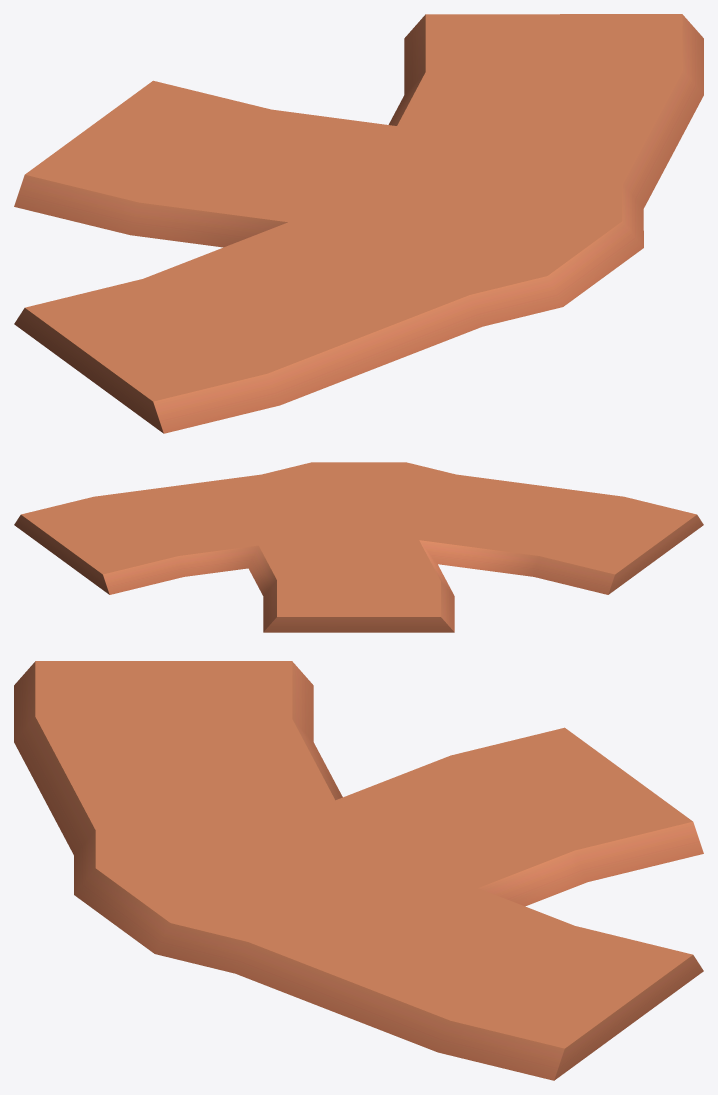
File: kenney-hexagon-path-intersectiona.glb
The picture shows the model from 3 angles, top to bottom: view 1: azimuth 30°, elevation 25°; view 2: azimuth 150°, elevation 25°; view 3: azimuth 270°, elevation 25°; orthographic projection. The views are drawn at different scales.
Parts seen in each view (by area): view 1: path_intersectionA; view 2: path_intersectionA; view 3: path_intersectionA.
Part boxes in pixels (x1=…): path_intersectionA: x1=14, y1=14, x2=703, y2=433; path_intersectionA: x1=14, y1=462, x2=703, y2=632; path_intersectionA: x1=14, y1=661, x2=703, y2=1080.
Size of the model in its own units: 0.8708 by 0.025 by 0.6422.
1 material, 1 textured.
